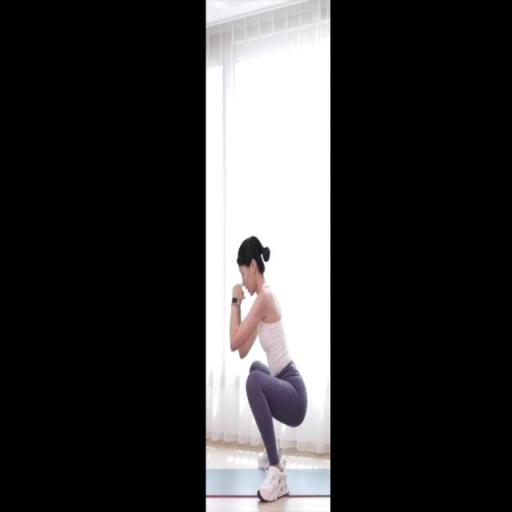Normal_BrenchPress: (229, 236, 308, 503)
